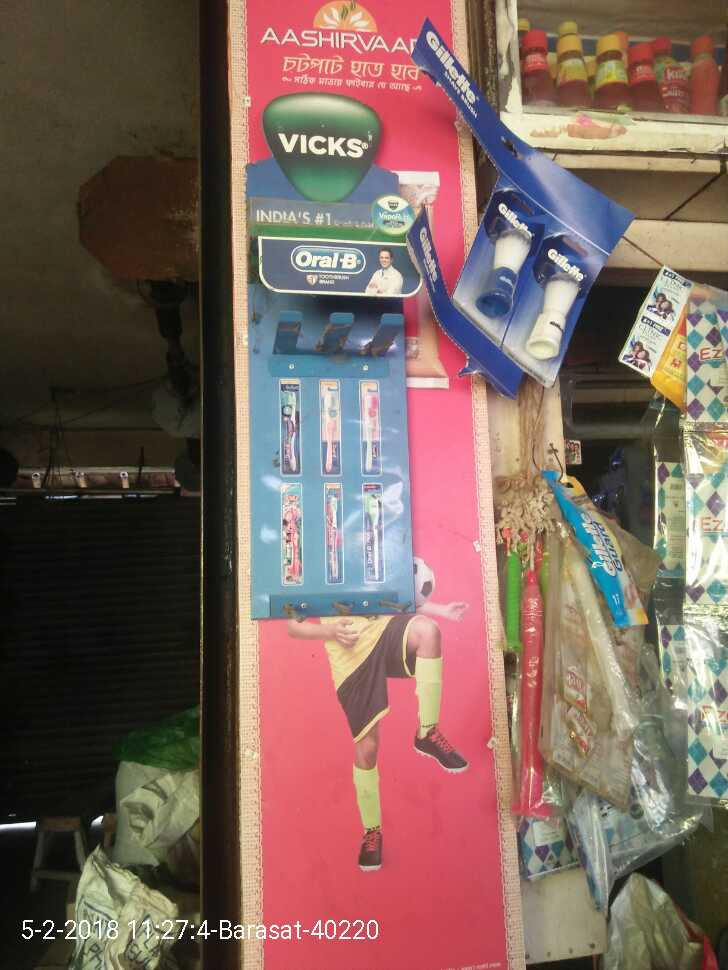beauty: (555, 462, 652, 627), (461, 171, 528, 326), (522, 233, 581, 380)
